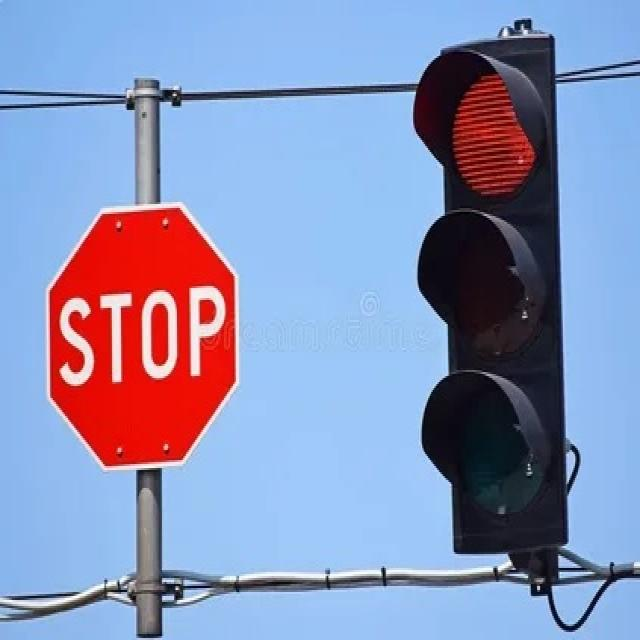kirmizi: (411, 34, 566, 546)
